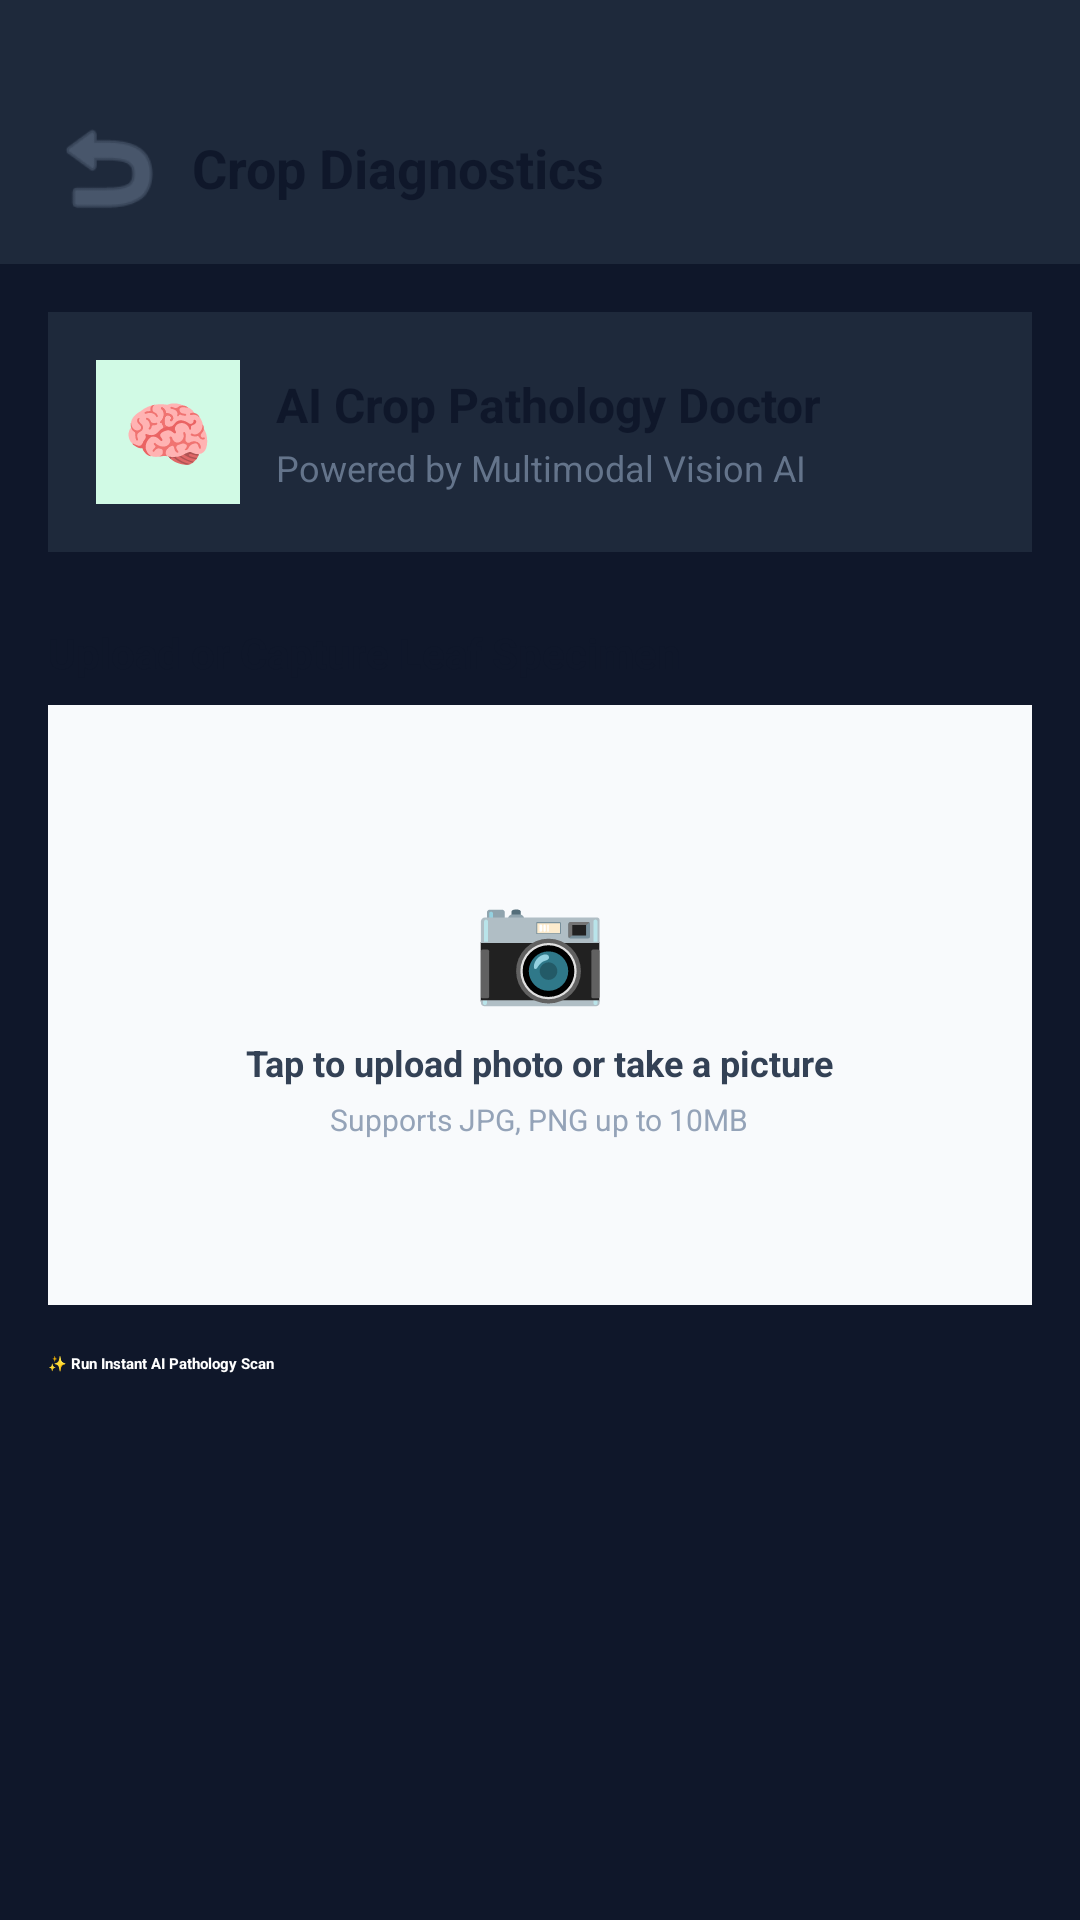

Where icons sit on this 1080 x 1920 app screen, as region(x1, y1, x2, y2):
revert: region(67, 131, 152, 207)
